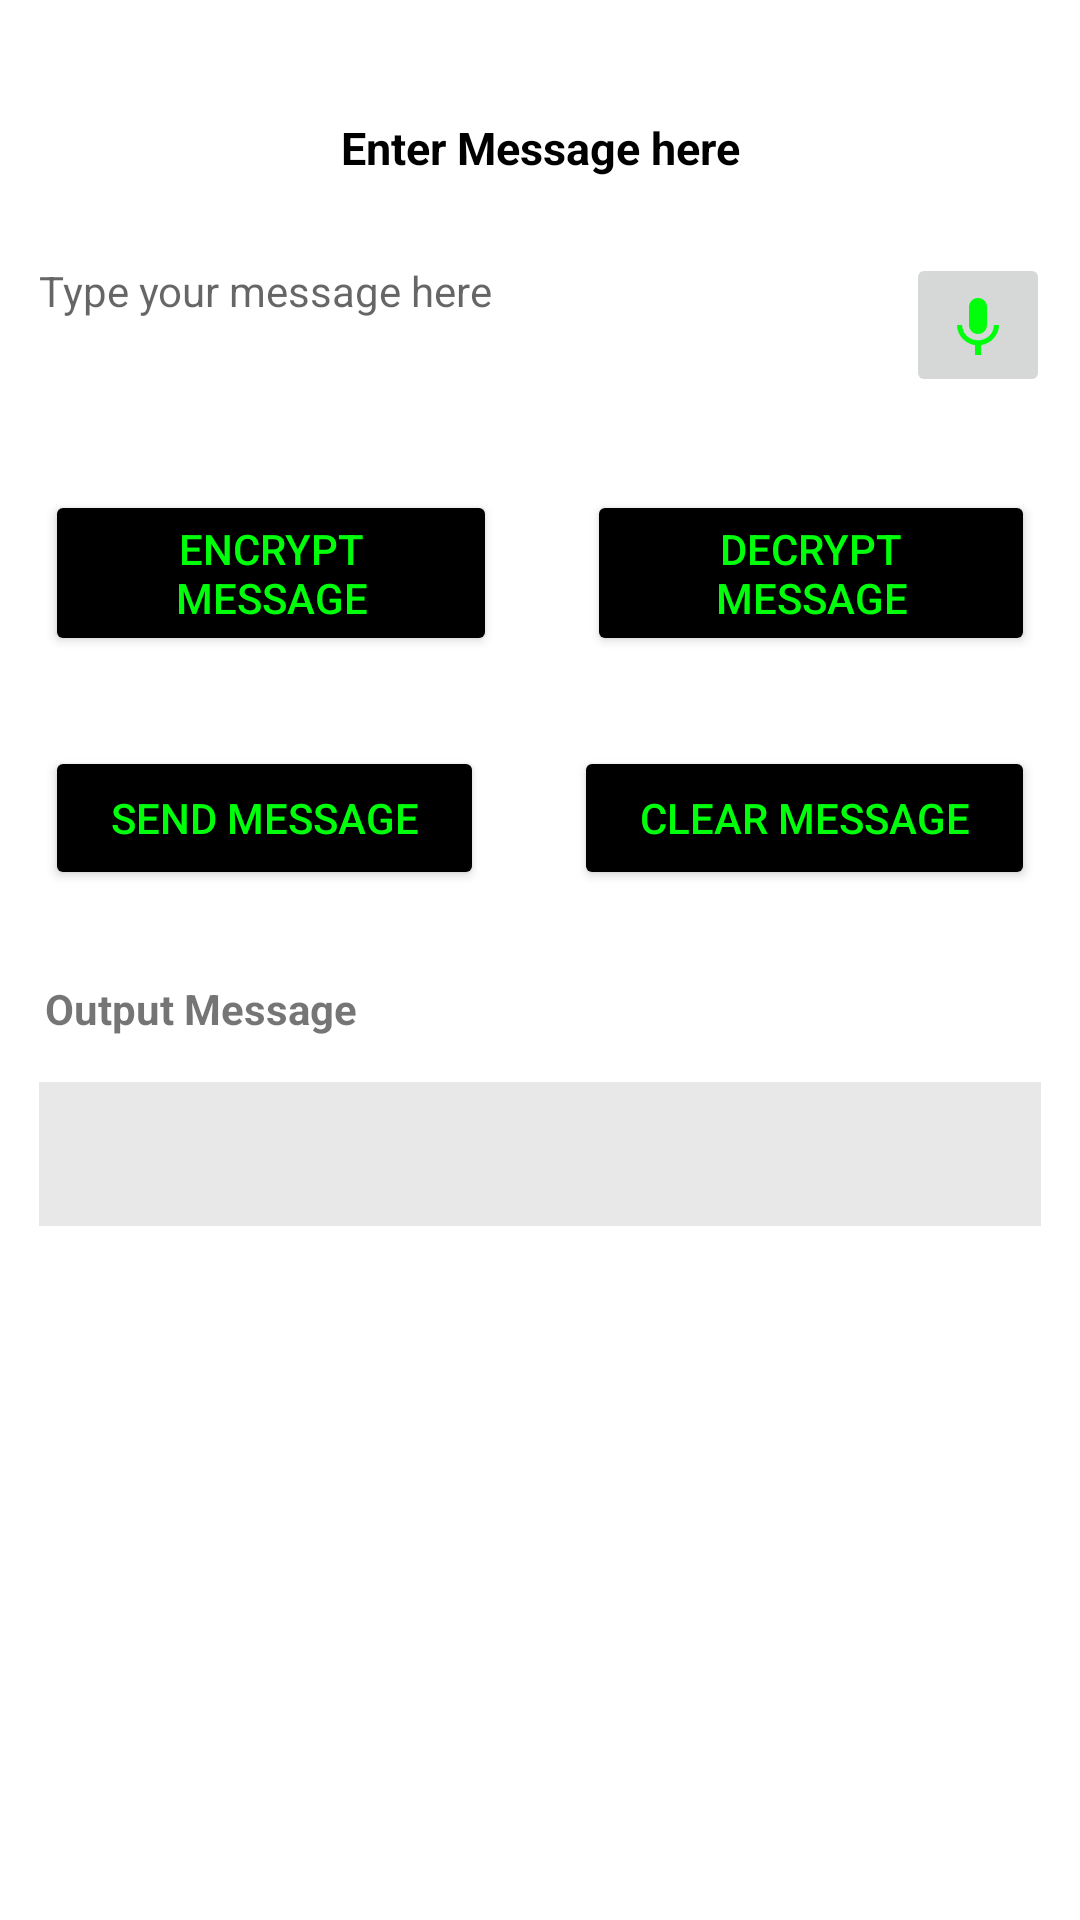

Screen size 1080 × 1920. Icon name, then its center in pixels as (x,y):
keyboard voice: (978,325)
